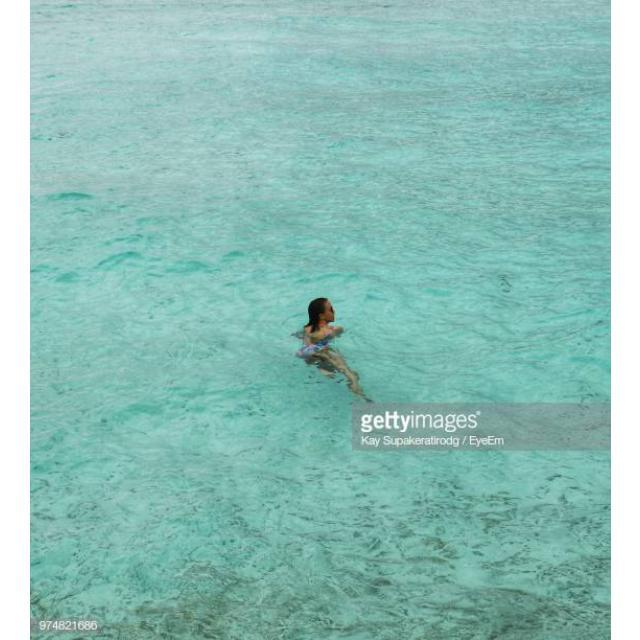human: (294, 294, 359, 395)
